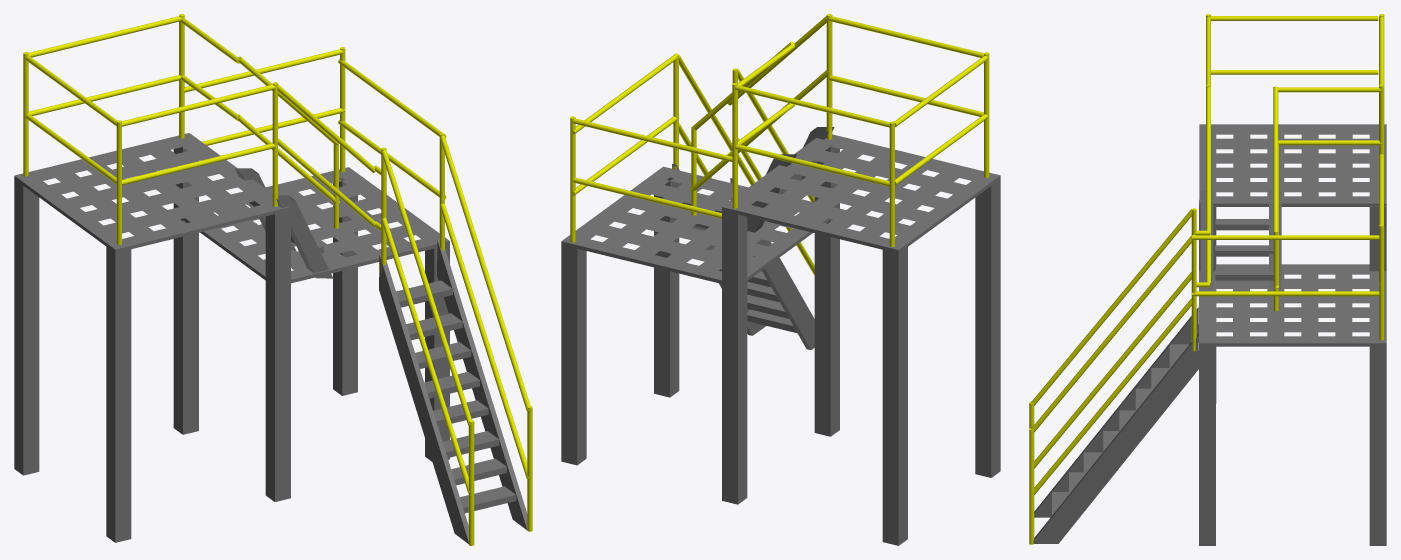
The model's file is stairs.fbx.
The picture shows the model from 3 angles, left to right: view 1: azimuth 30°, elevation 25°; view 2: azimuth 150°, elevation 25°; view 3: azimuth 270°, elevation 25°; orthographic projection. The views are drawn at different scales.
Visible parts, largest first — view 1: pCube12, pCube1, pCube2, pCube3, pCylinder5, pCylinder9, pCylinder2, pCylinder7, pCube13, pCylinder18, pCylinder25, pCylinder17 (+25 smaller); view 2: pCube1, pCube12, pCube2, pCylinder25, pCylinder18, pCylinder17, pCylinder23, pCylinder10, pCylinder5, pCylinder20, pCylinder26, pCylinder13 (+12 smaller); view 3: pCube1, pCube12, pCube3, pCube2, pCylinder9, pCylinder5, pCylinder2, pCylinder7, pCylinder27, pCylinder26, pCylinder34, pCylinder22 (+13 smaller).
Part boxes in pixels (box(x1,y1,x2,y2)): pCube12: box(14, 133, 290, 542); pCube1: box(173, 143, 449, 501); pCube2: box(379, 253, 468, 543); pCube3: box(437, 239, 527, 530); pCylinder5: box(439, 135, 530, 410); pCylinder9: box(381, 150, 472, 425); pCylinder2: box(439, 203, 528, 478); pCylinder7: box(381, 217, 470, 493); pCube13: box(272, 195, 333, 278); pCylinder18: box(26, 16, 181, 57); pCylinder25: box(183, 49, 344, 92); pCylinder17: box(26, 75, 181, 115); pCube1: box(561, 143, 839, 504); pCube12: box(722, 134, 1000, 545); pCube2: box(730, 178, 814, 349); pCylinder25: box(572, 118, 732, 162); pCylinder18: box(734, 85, 890, 127); pCylinder17: box(735, 144, 889, 186); pCylinder23: box(573, 177, 721, 218); pCylinder10: box(826, 14, 832, 139); pCylinder5: box(678, 54, 755, 185); pCylinder20: box(889, 121, 894, 246); pCylinder26: box(570, 53, 678, 134); pCylinder13: box(828, 16, 983, 56); pCube1: box(1199, 200, 1386, 545); pCube12: box(1199, 124, 1386, 403); pCube3: box(1033, 333, 1198, 543); pCube2: box(1034, 307, 1198, 517); pCylinder9: box(1031, 208, 1192, 405); pCylinder5: box(1031, 235, 1192, 432); pCylinder2: box(1033, 298, 1192, 495); pCylinder7: box(1034, 272, 1191, 468); pCylinder27: box(1192, 291, 1383, 296); pCylinder26: box(1192, 235, 1383, 239); pCylinder34: box(1273, 86, 1278, 232); pCylinder22: box(1210, 16, 1378, 20).
Size of the model in its own units: 8.19 by 9.75 by 8.17.
